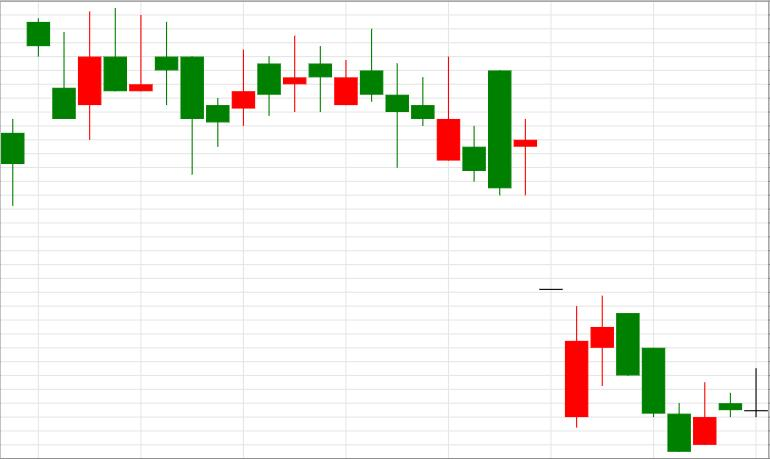inverse_hammer_rise: (360, 29, 460, 168)
